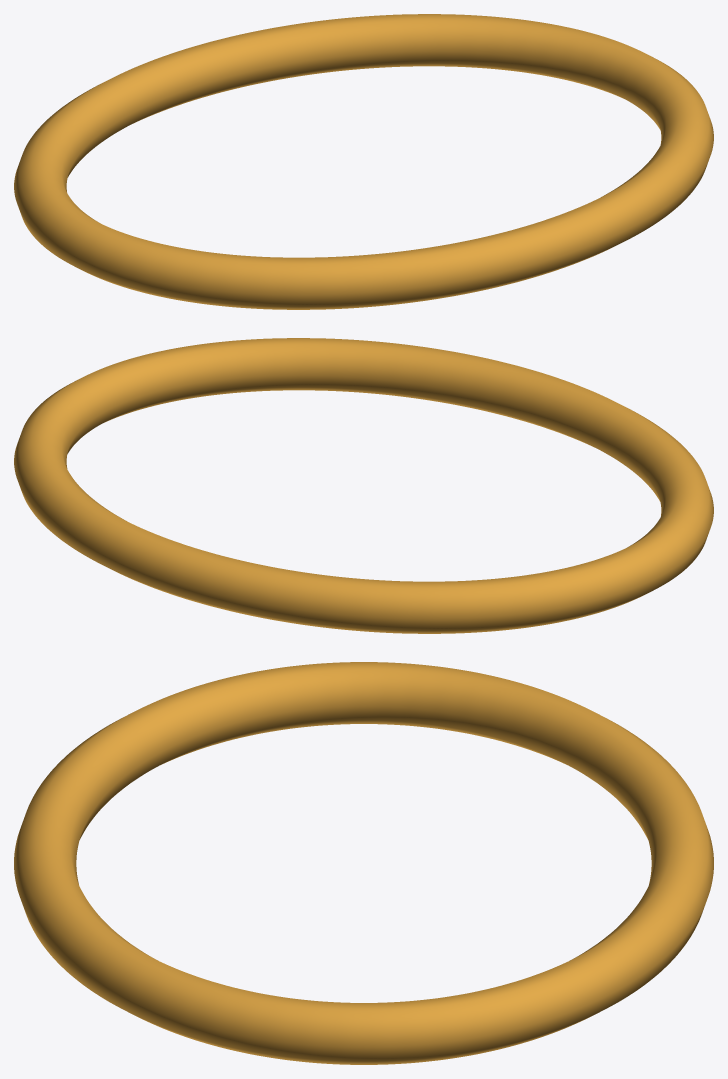
Rendered from Halo.glb.
The picture shows the model from 3 angles, top to bottom: view 1: azimuth 30°, elevation 25°; view 2: azimuth 150°, elevation 25°; view 3: azimuth 270°, elevation 25°; orthographic projection. The views are drawn at different scales.
Visible parts, largest first — view 1: Floating gold halo; view 2: Floating gold halo; view 3: Floating gold halo.
Part boxes in pixels (box(x1,y1,x2,y2)): Floating gold halo: box(14, 14, 713, 309); Floating gold halo: box(14, 338, 713, 633); Floating gold halo: box(14, 662, 713, 1064).
Size of the model in its own units: 0.668 by 0.0457 by 0.538.
